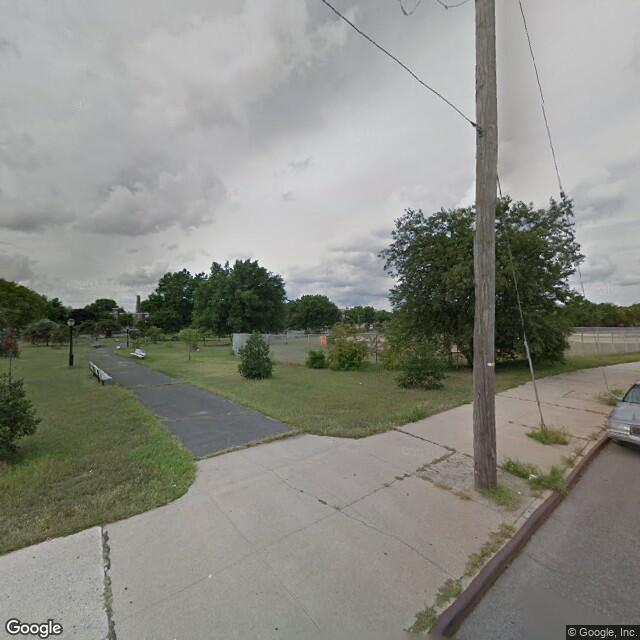litter: (172, 481, 176, 485), (358, 380, 363, 383), (517, 490, 521, 493), (195, 347, 199, 349)
